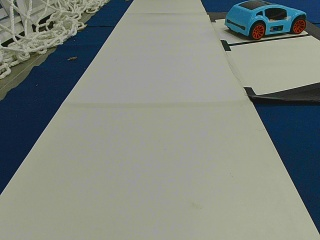car: (225, 3, 306, 39)
